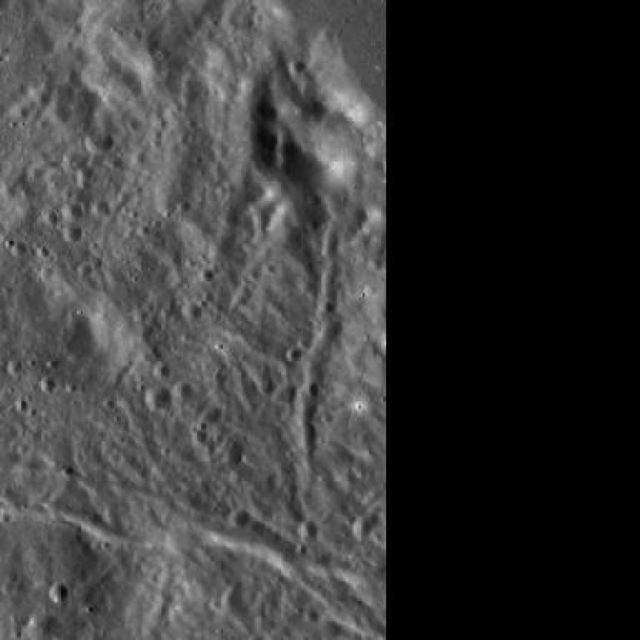crater: (100, 63, 142, 105), (82, 54, 120, 92), (25, 614, 58, 640), (85, 126, 114, 154), (146, 384, 172, 410), (294, 393, 320, 418), (293, 422, 319, 447), (62, 148, 87, 172), (47, 102, 71, 125), (296, 518, 318, 538), (223, 446, 244, 466), (31, 87, 51, 107), (172, 380, 192, 400), (182, 301, 202, 321), (202, 404, 222, 424), (229, 509, 249, 529), (351, 518, 371, 538), (11, 102, 31, 121), (62, 224, 82, 242), (48, 584, 68, 602), (63, 202, 82, 220), (259, 377, 278, 395), (322, 242, 340, 260), (322, 228, 340, 246), (92, 199, 111, 216), (154, 363, 172, 380), (304, 380, 322, 397), (253, 212, 272, 228), (192, 430, 210, 446), (318, 298, 336, 314), (289, 58, 306, 74), (78, 164, 94, 180), (6, 360, 22, 374)
